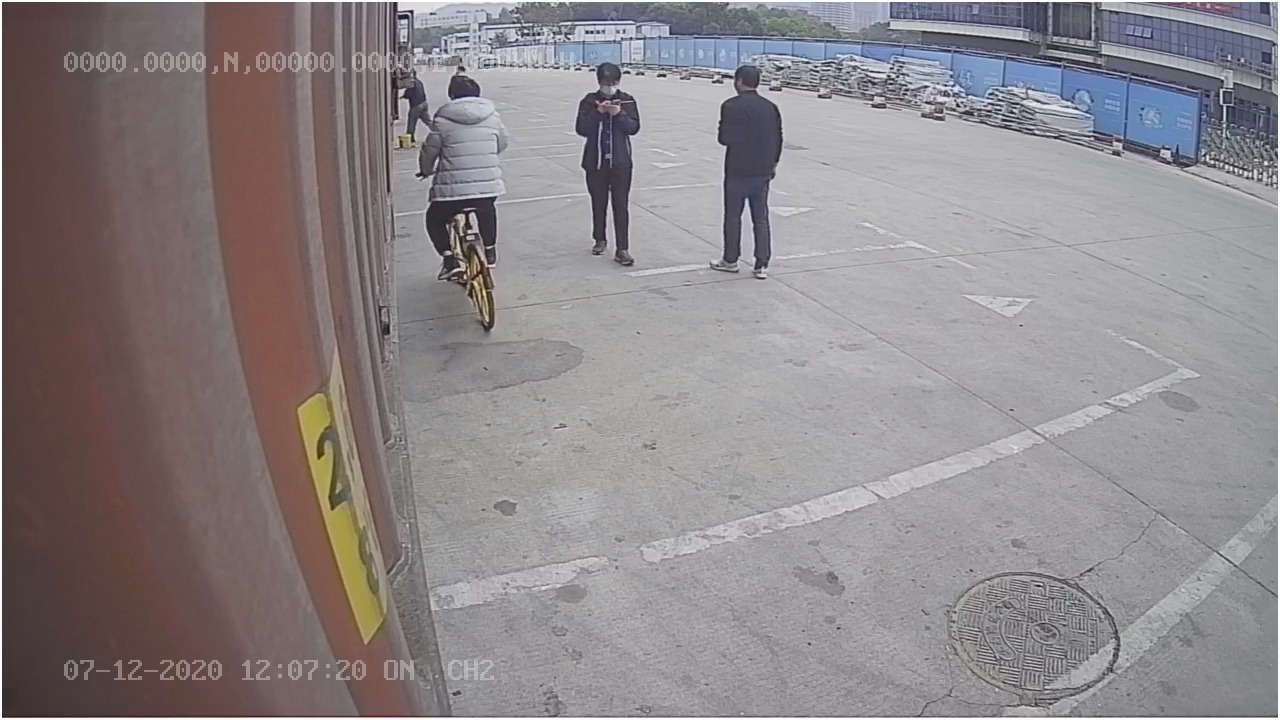person: (712, 62, 791, 279)
